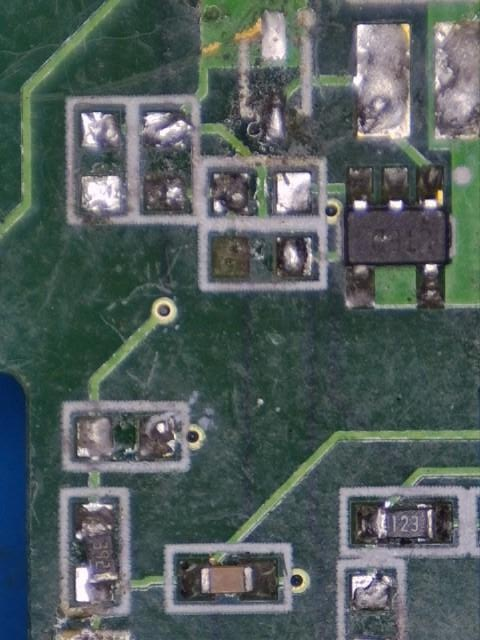pcb_defect: (75, 503, 120, 603)
